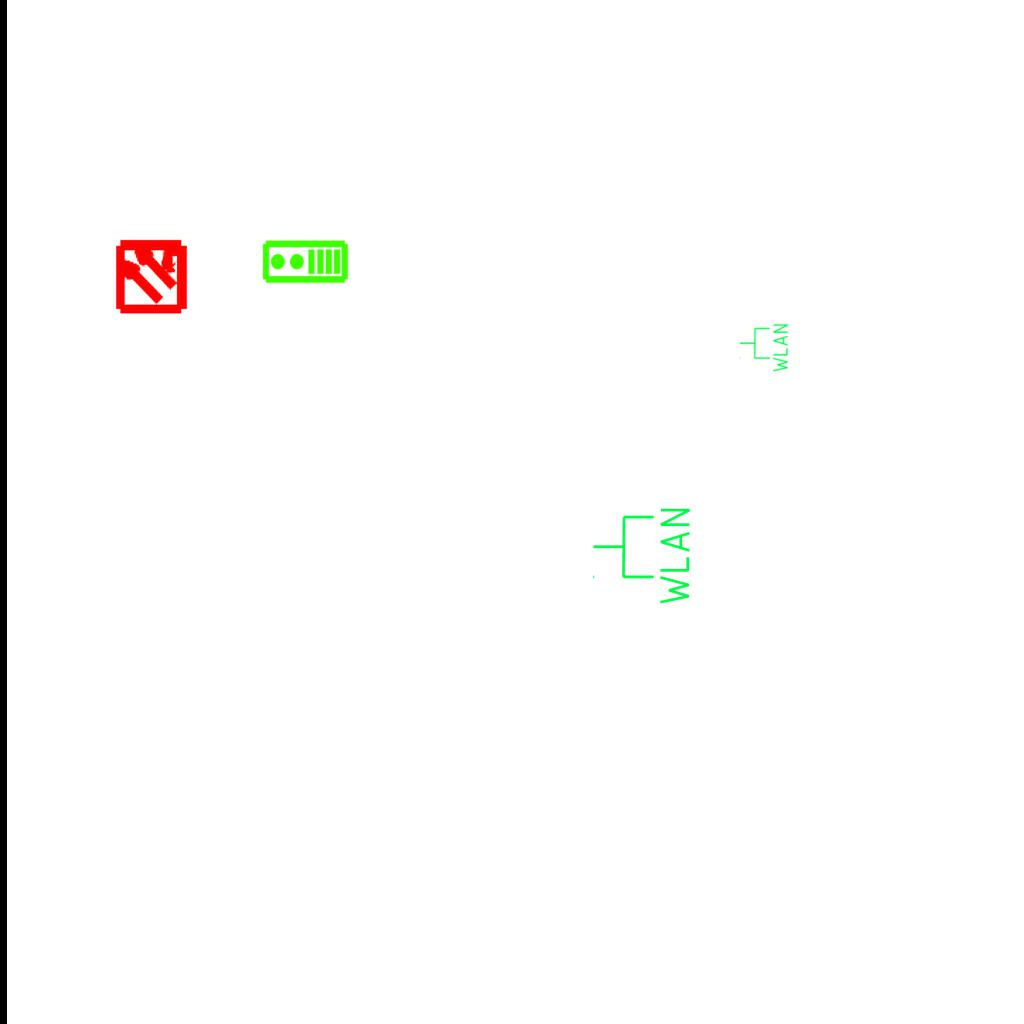Gegensprechanlage_mit_Video: (261, 239, 349, 286)
OT_Multisensormelder_(Kombination_RMO_WMD): (95, 218, 208, 331)
WLAN: (590, 504, 694, 609), (738, 322, 790, 374)
